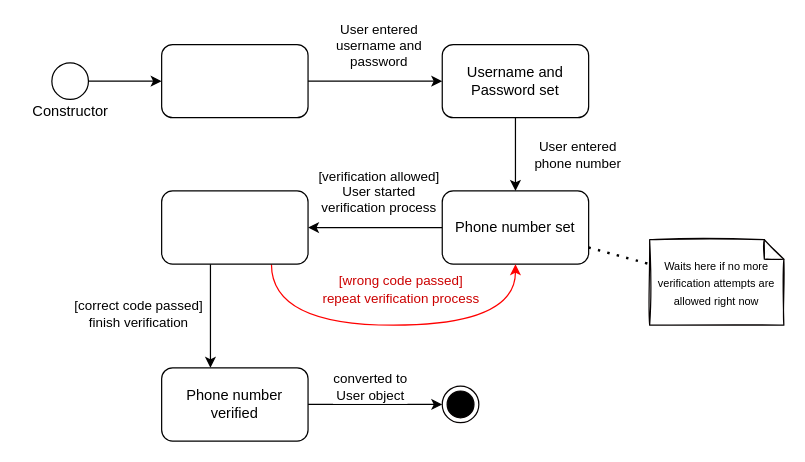
Image size: 805x462. Some labels were removed from this diagram. The centre of each missing label's shape, as x and y in pixels:
Created: [234,80]
Waiting for verification code: [234,227]
